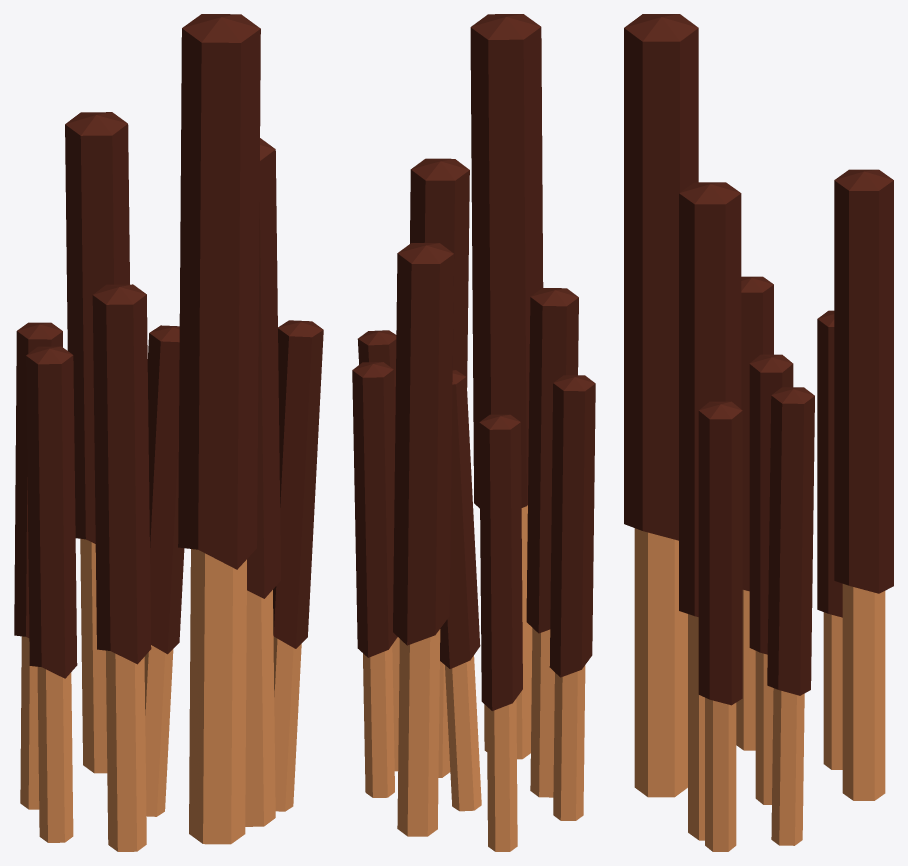
The model's file is grass_candy.fbx.
3 views of the same model, side by side, from view 1: azimuth 30°, elevation 25°; view 2: azimuth 150°, elevation 25°; view 3: azimuth 270°, elevation 25° (orthographic). The views are drawn at different scales.
Visible parts, largest first — view 1: grass_candy; view 2: grass_candy; view 3: grass_candy.
Part boxes in pixels (x1=…): grass_candy: x1=14, y1=14, x2=323, y2=851; grass_candy: x1=352, y1=14, x2=595, y2=851; grass_candy: x1=624, y1=14, x2=893, y2=851.
Bounding box in the file's own units: 37.12 × 110 × 34.
